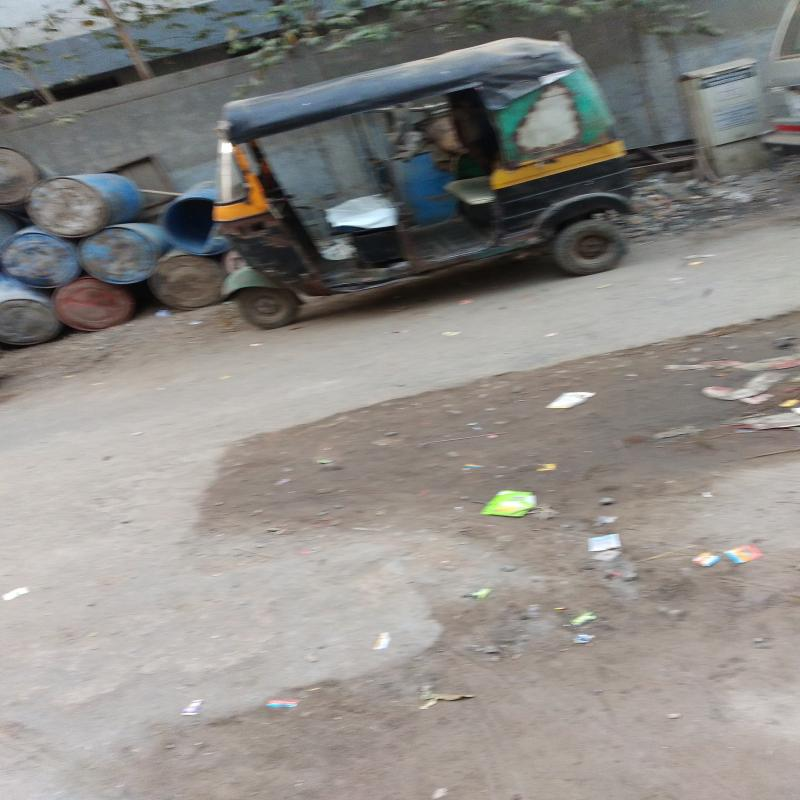auto: (228, 42, 617, 322)
